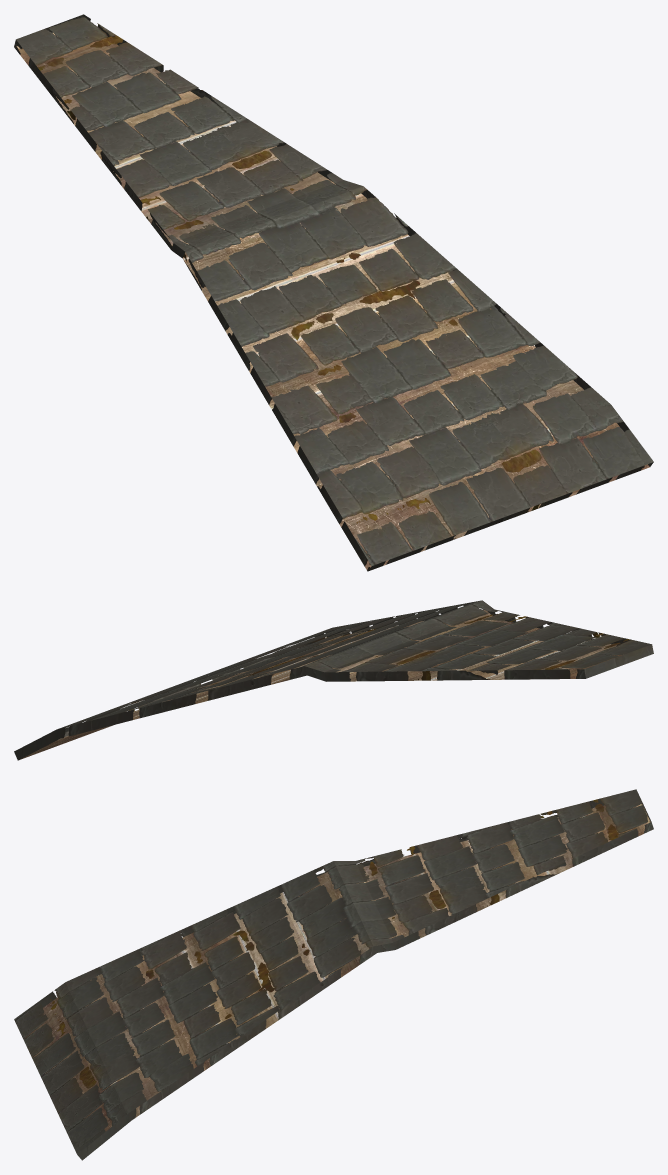
3 renders of one model, top to bottom at view 1: azimuth 30°, elevation 25°; view 2: azimuth 210°, elevation 25°; view 3: azimuth 270°, elevation 25°, orthographic. The views are drawn at different scales.
Parts seen in each view (by area): view 1: SM_Library_Roof_02_LOD0; view 2: SM_Library_Roof_02_LOD0; view 3: SM_Library_Roof_02_LOD0.
Part boxes in pixels (bbox=[...]): SM_Library_Roof_02_LOD0: bbox=[14, 14, 653, 571]; SM_Library_Roof_02_LOD0: bbox=[14, 600, 653, 760]; SM_Library_Roof_02_LOD0: bbox=[14, 789, 653, 1160].
Bounding box in the file's own units: 7.59 × 6.06 × 14.83.
Materials: 2 (2 with a texture image).
